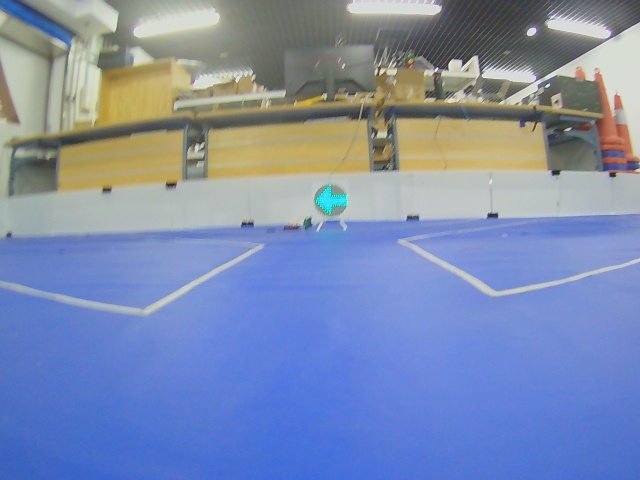left_green: (314, 185, 348, 216)
